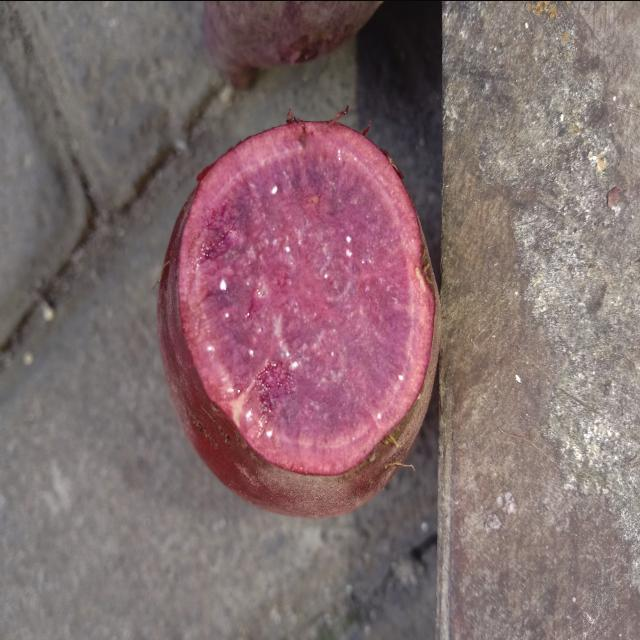Healthy Sweet Potato: (179, 122, 435, 473)
